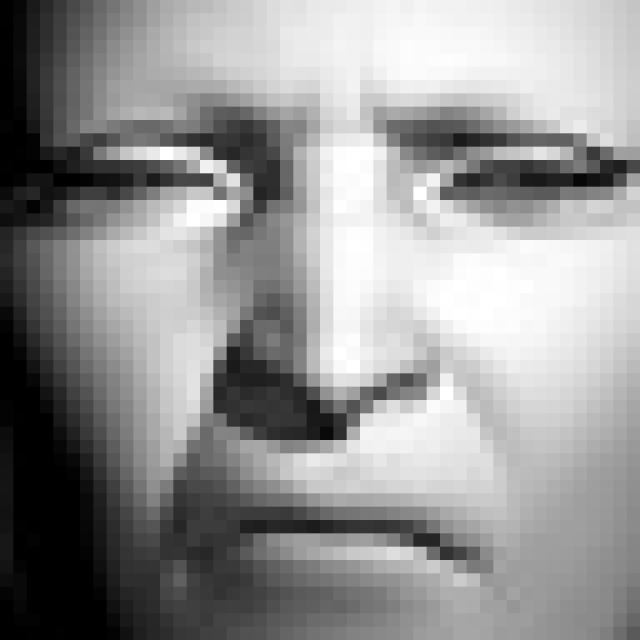disgust: (36, 74, 640, 622)
